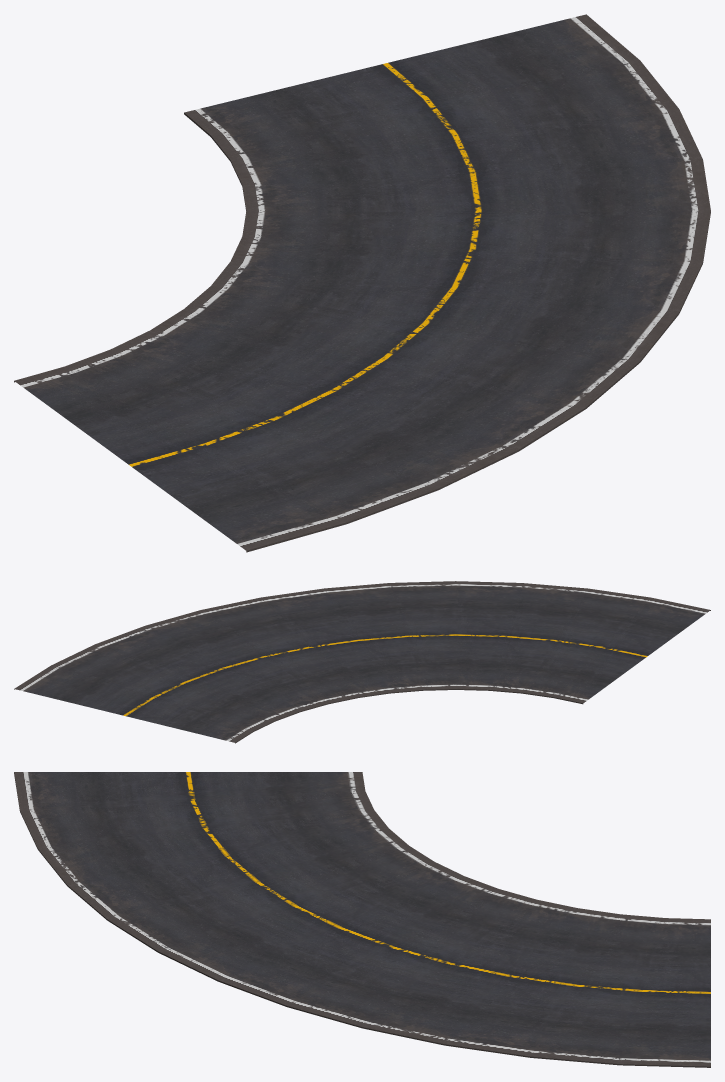
File: TRF0110011.fbx
3 renders of one model, top to bottom at view 1: azimuth 30°, elevation 25°; view 2: azimuth 150°, elevation 25°; view 3: azimuth 270°, elevation 25°, orthographic. The views are drawn at different scales.
Parts seen in each view (by area): view 1: smTRF0110011; view 2: smTRF0110011; view 3: smTRF0110011.
Part boxes in pixels (x1=…): smTRF0110011: x1=14, y1=14, x2=710, y2=552; smTRF0110011: x1=14, y1=581, x2=710, y2=743; smTRF0110011: x1=14, y1=772, x2=710, y2=1067.
Size of the model in its own units: 2400 by 5 by 2400.
Materials: 1 (1 with a texture image).
